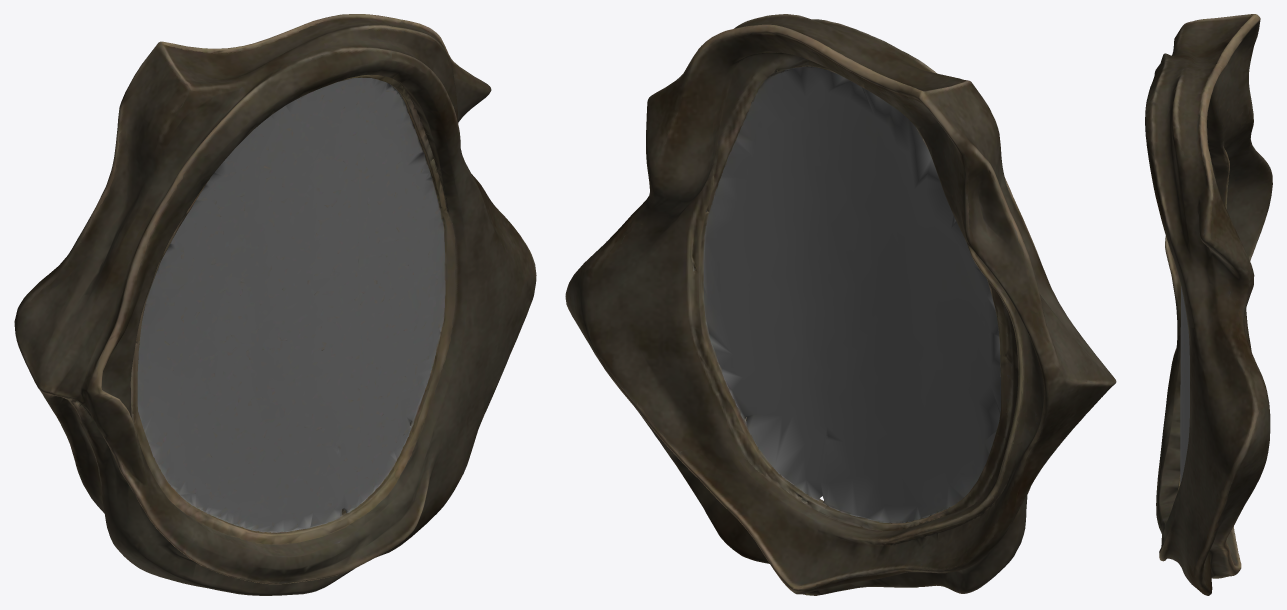
The model's file is sculptural-wall-mirror.glb.
The picture shows the model from 3 angles, left to right: view 1: azimuth 30°, elevation 25°; view 2: azimuth 150°, elevation 25°; view 3: azimuth 270°, elevation 25°; orthographic projection. The views are drawn at different scales.
Visible parts, largest first — view 1: world; view 2: world; view 3: world.
Boxes of the visible parts, bbox=[...] form: world: bbox=[14, 14, 536, 595]; world: bbox=[565, 14, 1116, 595]; world: bbox=[1145, 14, 1272, 595].
Bounding box in the file's own units: 0.976 × 1 × 0.2264.
1 material, 1 textured.
